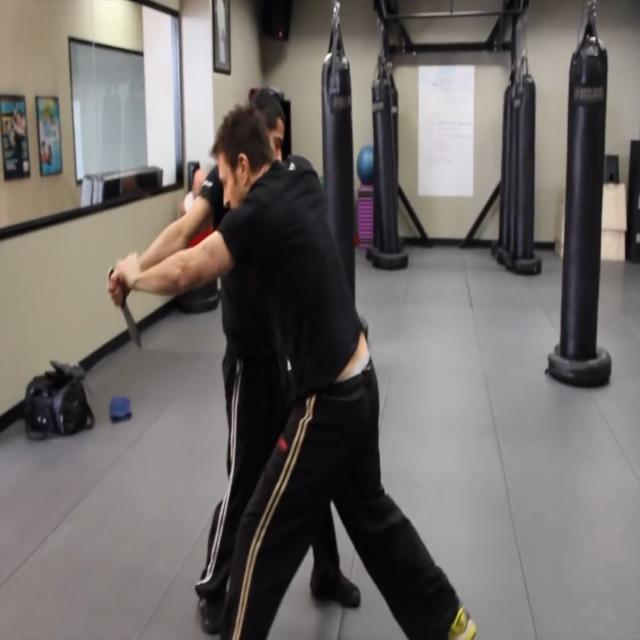knife: (121, 296, 147, 353)
